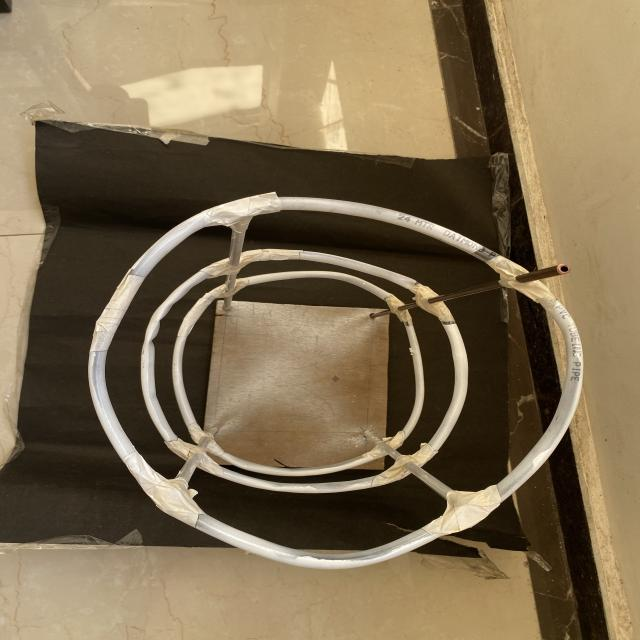silo: (85, 183, 586, 571)
